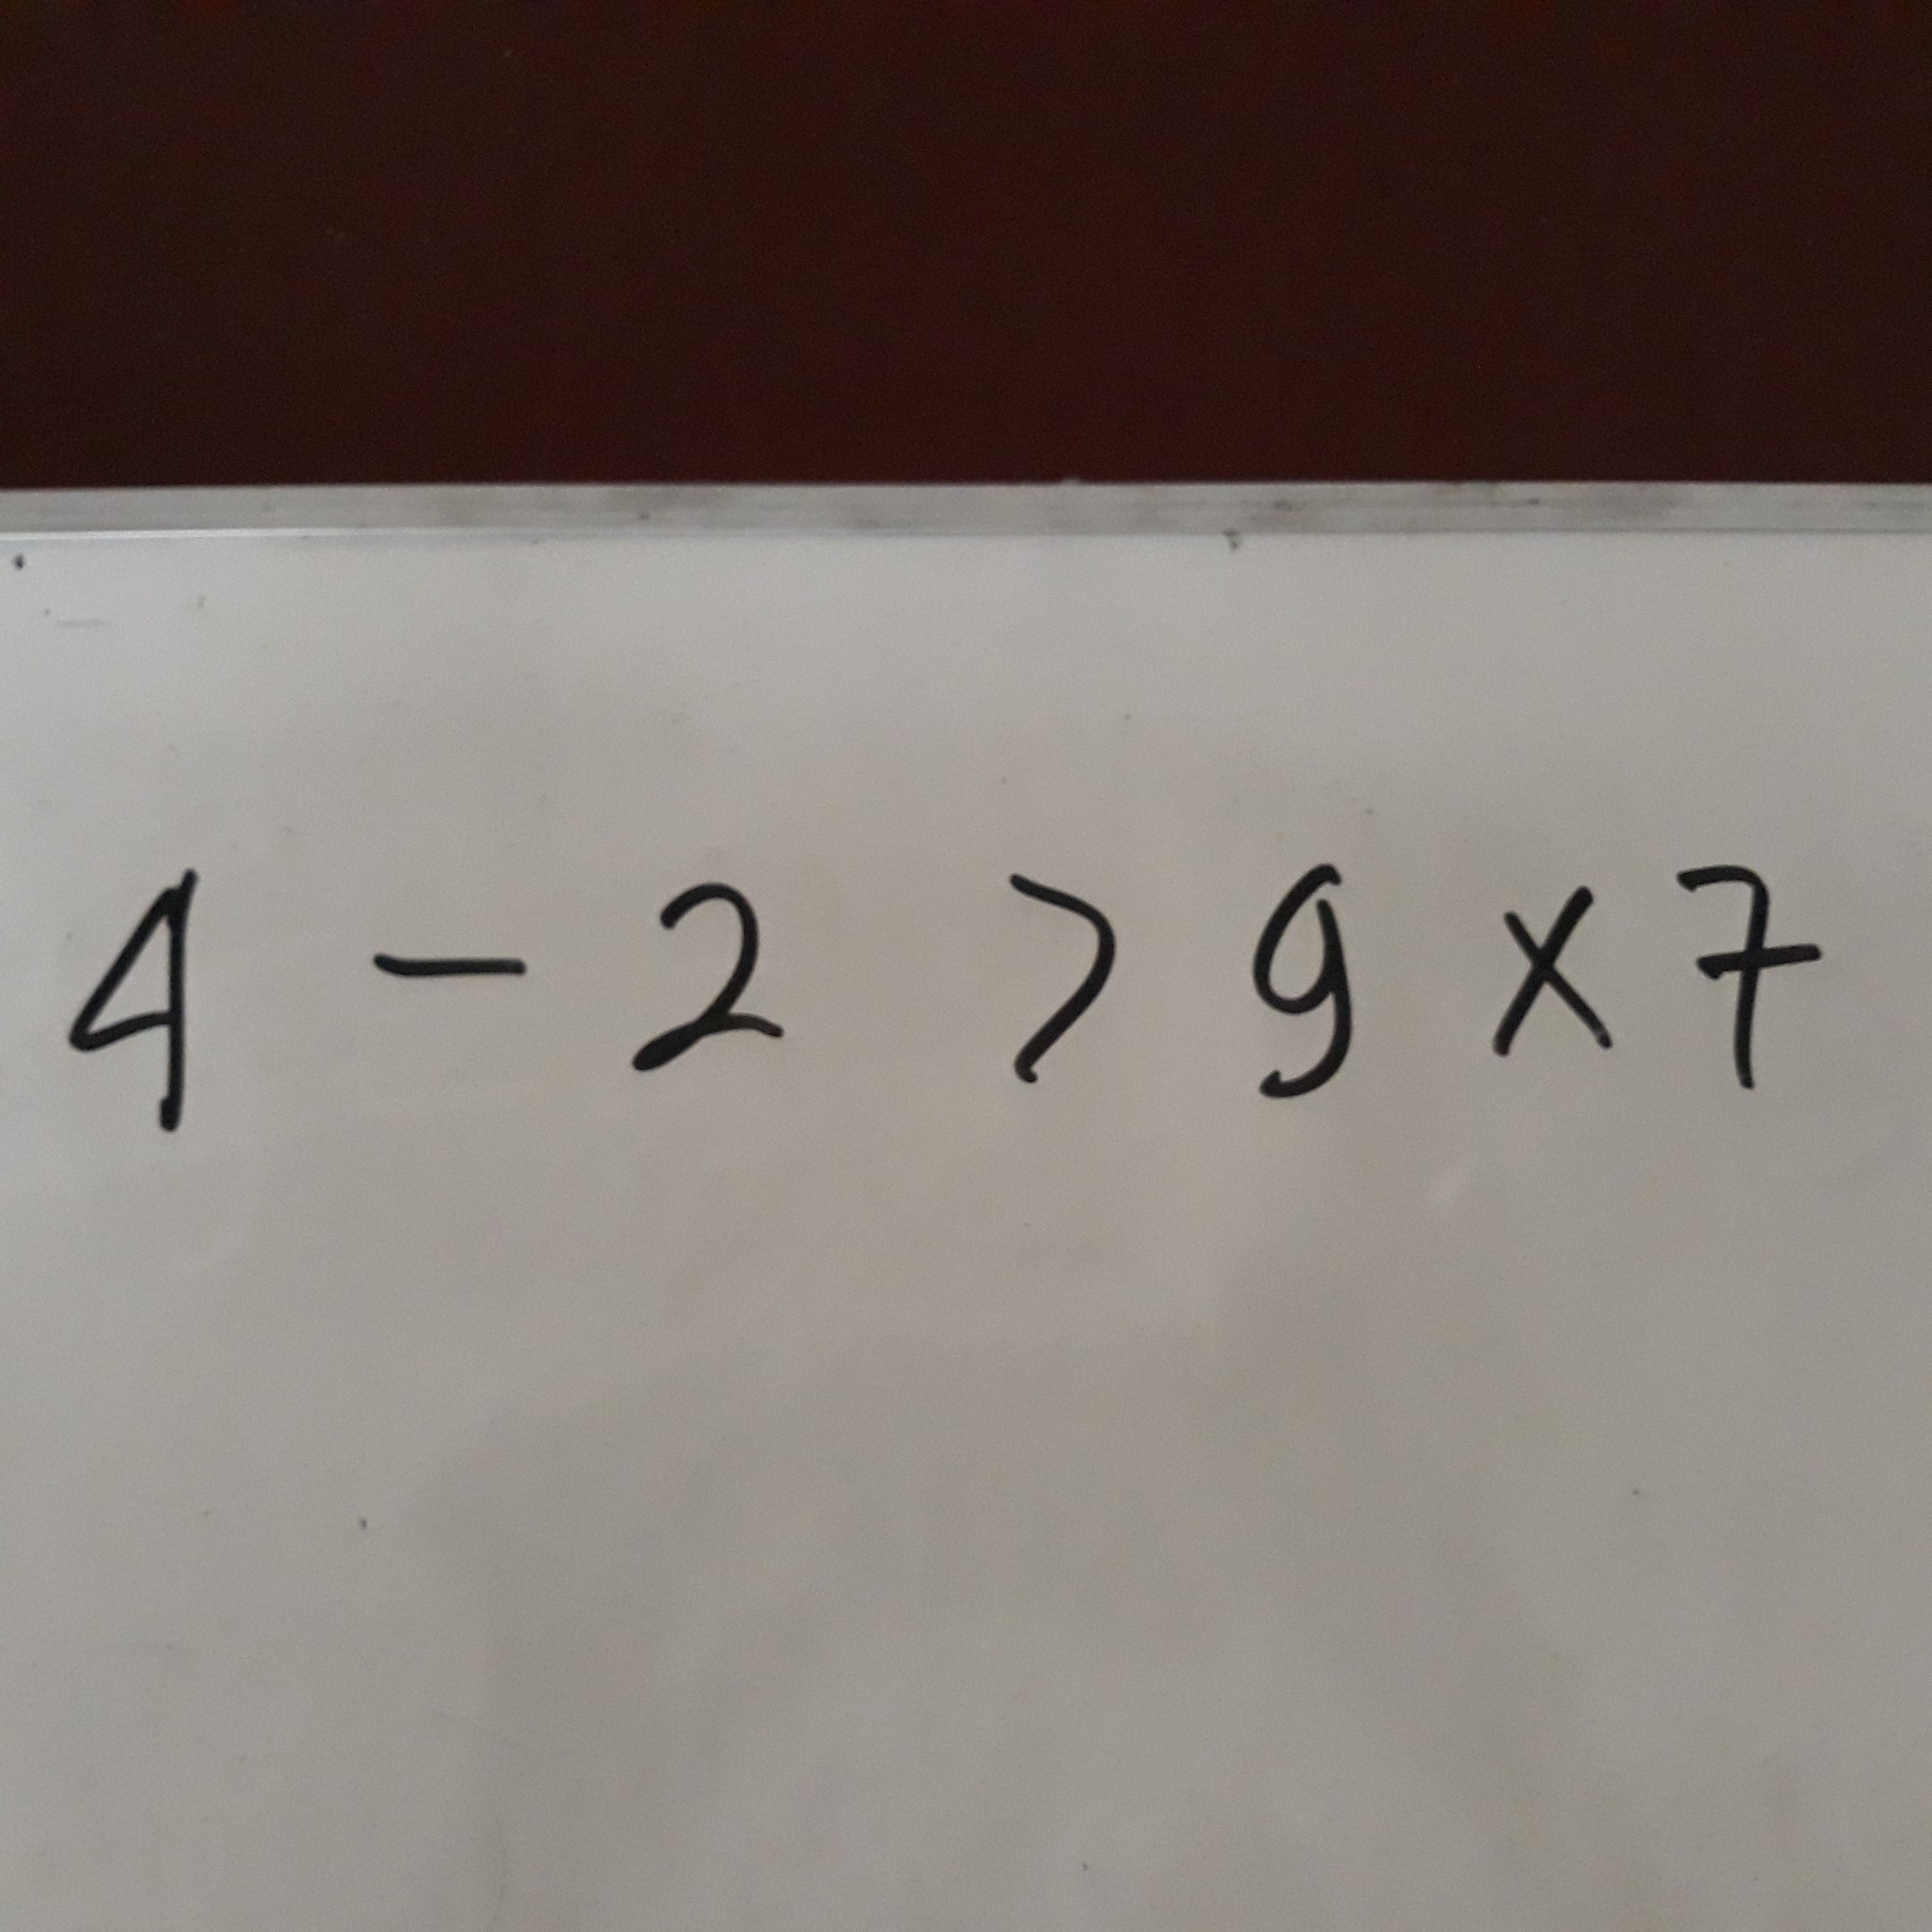min: (352, 927, 538, 1021)
morethan: (958, 858, 1157, 1081)
multi: (1459, 836, 1637, 1111)
num2: (612, 861, 811, 1085)
num4: (45, 856, 233, 1155)
num7: (1658, 835, 1836, 1109)
num9: (1213, 841, 1391, 1115)
